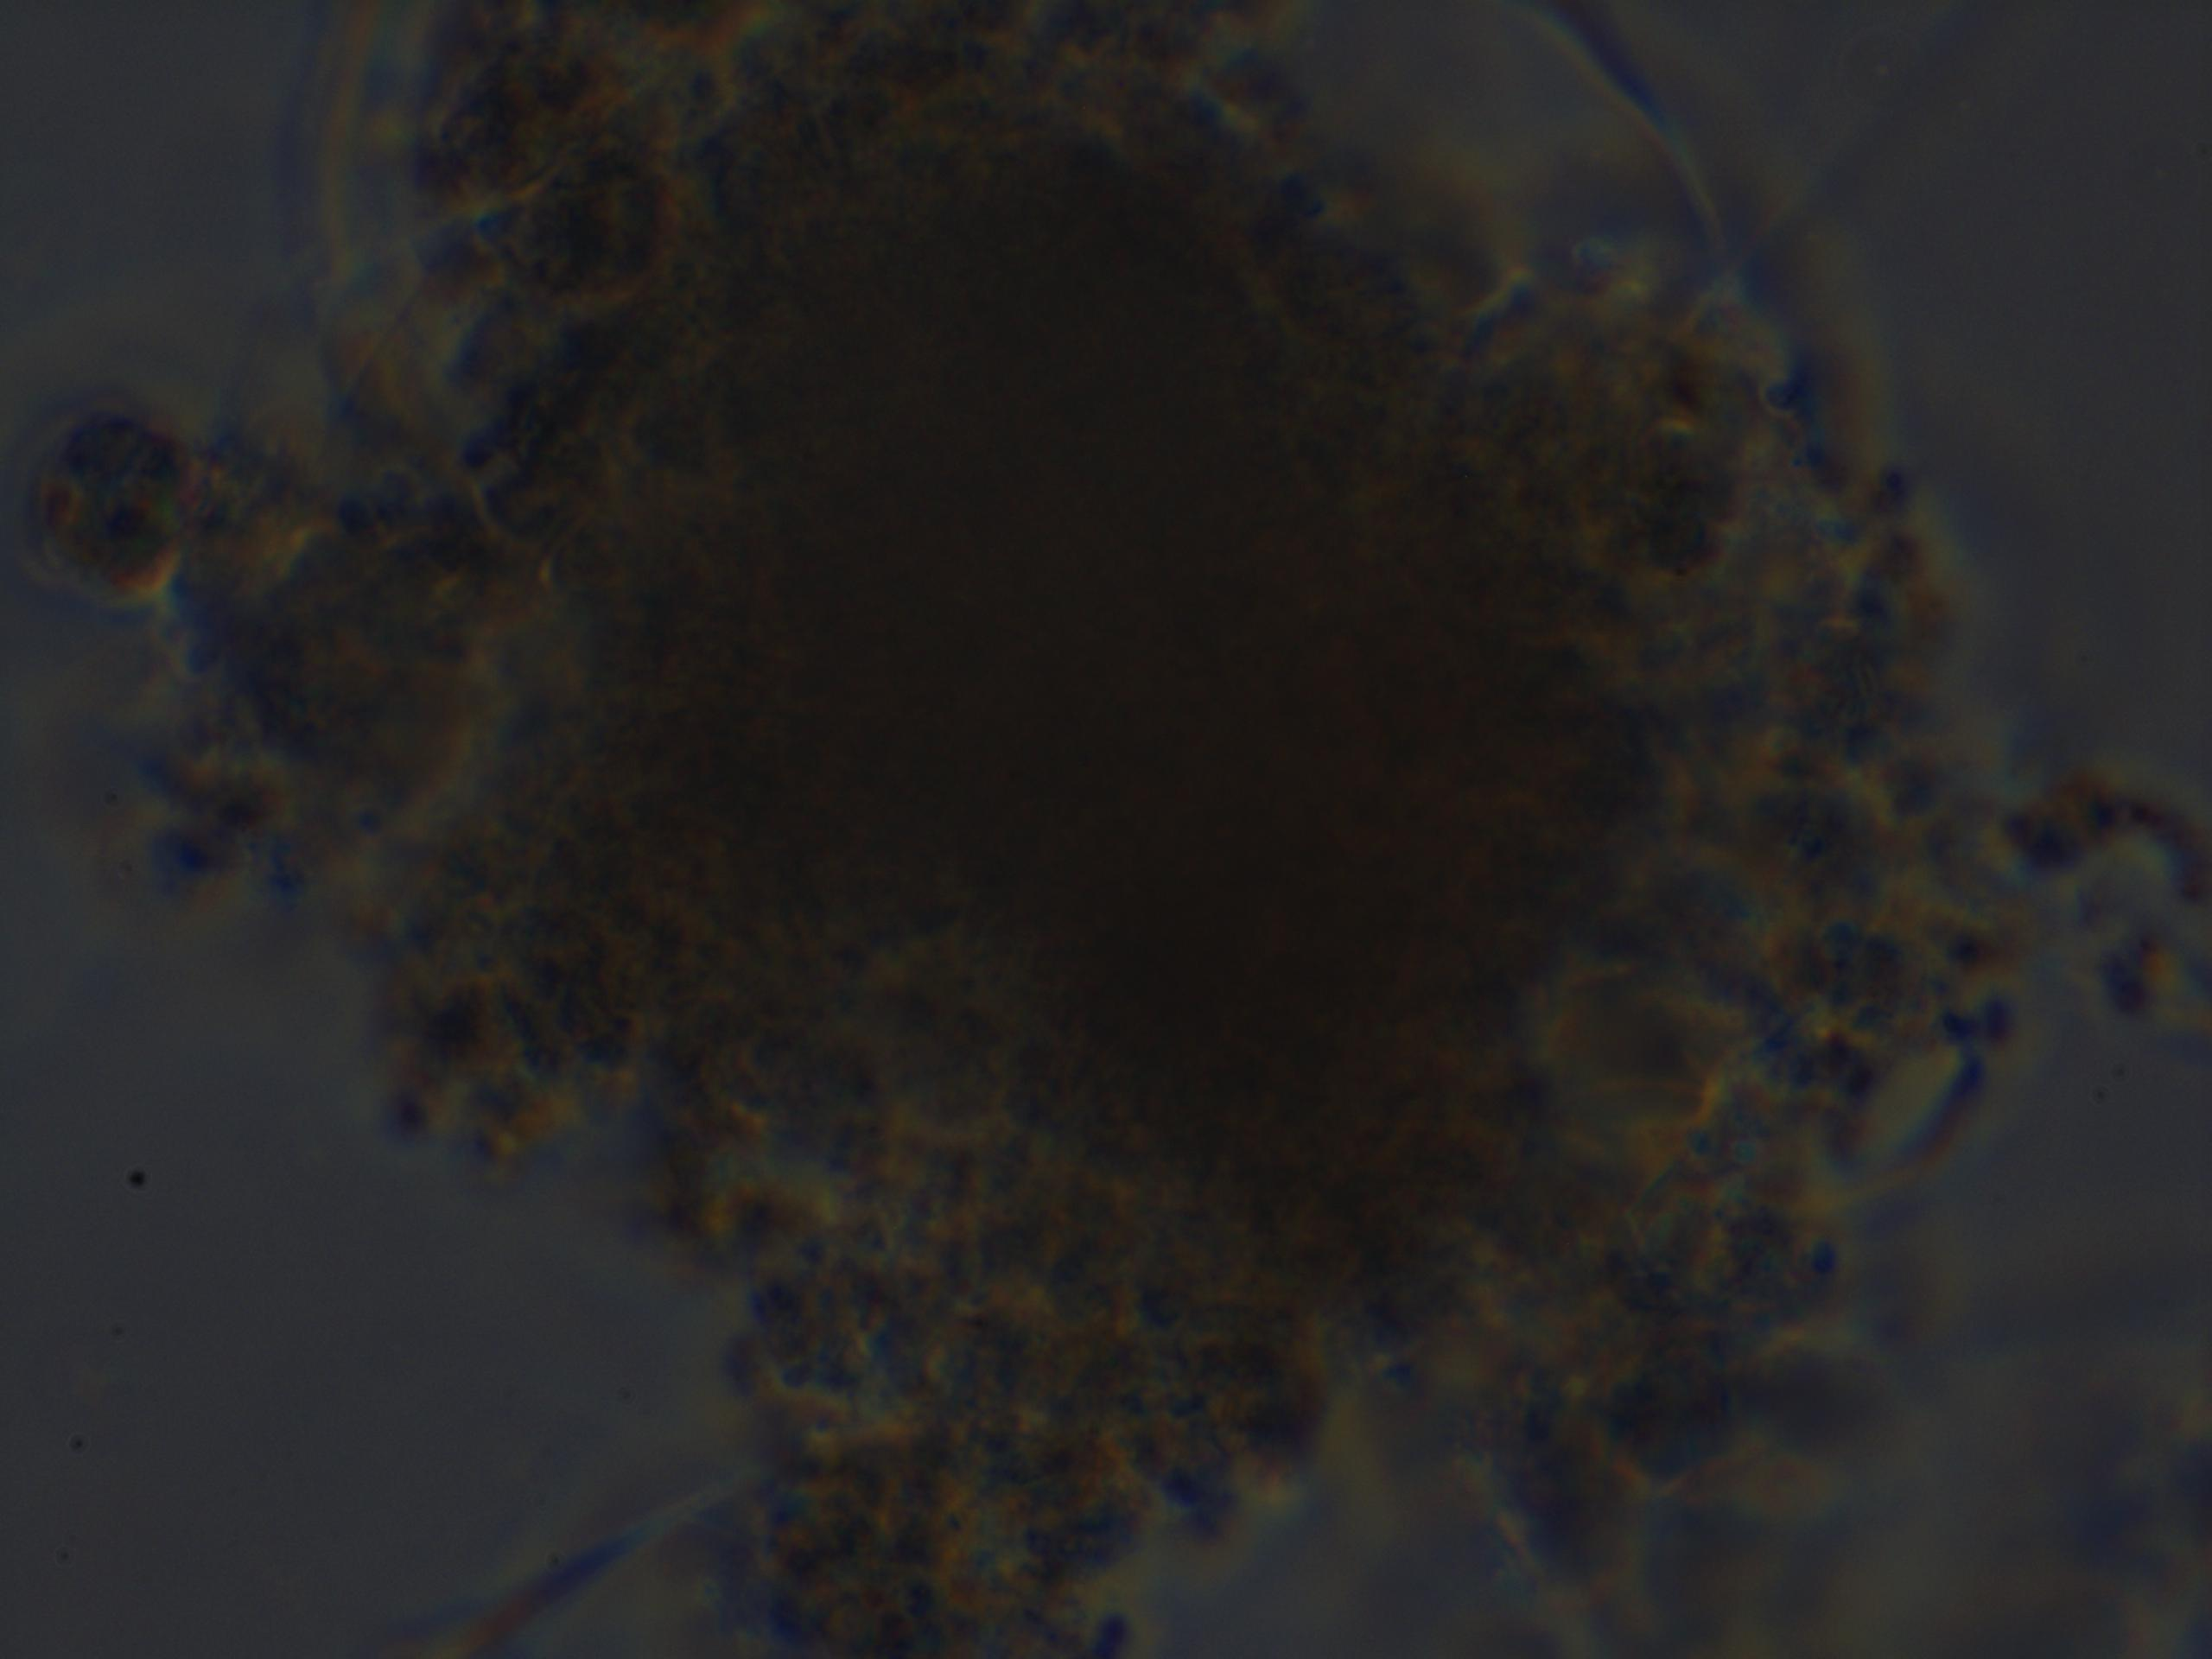filament: (1545, 17, 1804, 295)
spherical_floc: (294, 9, 1890, 1394)
